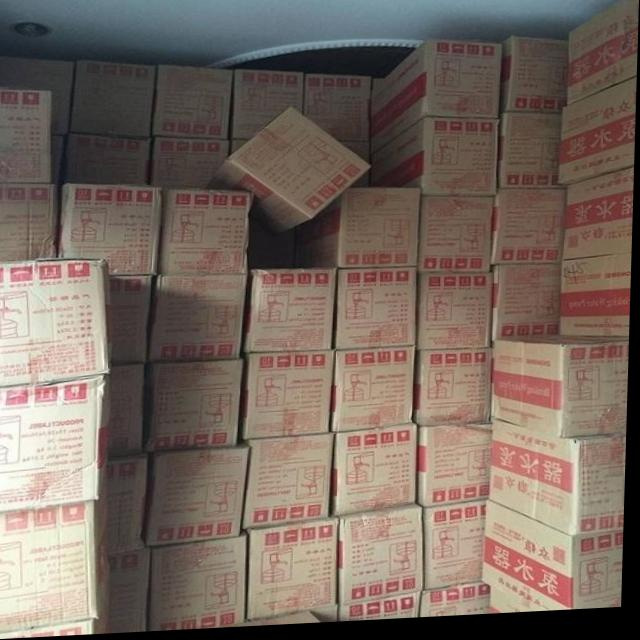box: (204, 110, 373, 238), (492, 424, 629, 544), (0, 490, 113, 635), (485, 505, 627, 618), (368, 44, 504, 158), (0, 378, 113, 512), (0, 258, 113, 387), (496, 342, 631, 444), (151, 445, 254, 549), (369, 122, 500, 200), (295, 191, 421, 272), (57, 185, 162, 277), (154, 535, 249, 633), (251, 520, 340, 624), (341, 506, 429, 610), (147, 277, 248, 366), (147, 362, 243, 454), (243, 437, 336, 531), (558, 83, 637, 192), (242, 354, 337, 444), (242, 271, 340, 355), (332, 429, 421, 520), (160, 193, 254, 278), (568, 0, 639, 111), (330, 351, 419, 438), (334, 270, 420, 354), (66, 61, 157, 139), (564, 173, 635, 267), (419, 428, 495, 514), (151, 67, 234, 143), (418, 200, 496, 279), (416, 354, 494, 432), (425, 505, 491, 597), (562, 258, 633, 343), (0, 56, 75, 135), (419, 277, 495, 354), (492, 194, 567, 270), (500, 41, 568, 124), (499, 117, 568, 194), (496, 268, 564, 344), (231, 73, 306, 141), (0, 90, 53, 186), (107, 276, 160, 367), (111, 454, 157, 556), (0, 182, 60, 260), (304, 77, 373, 144), (65, 134, 150, 188), (153, 140, 230, 193), (111, 553, 156, 635), (111, 365, 148, 461), (424, 588, 499, 622), (345, 595, 425, 625), (0, 622, 96, 637), (491, 593, 538, 619), (242, 615, 322, 630), (338, 143, 373, 170), (338, 144, 373, 170), (51, 133, 67, 186), (345, 170, 373, 193), (230, 141, 251, 156)
